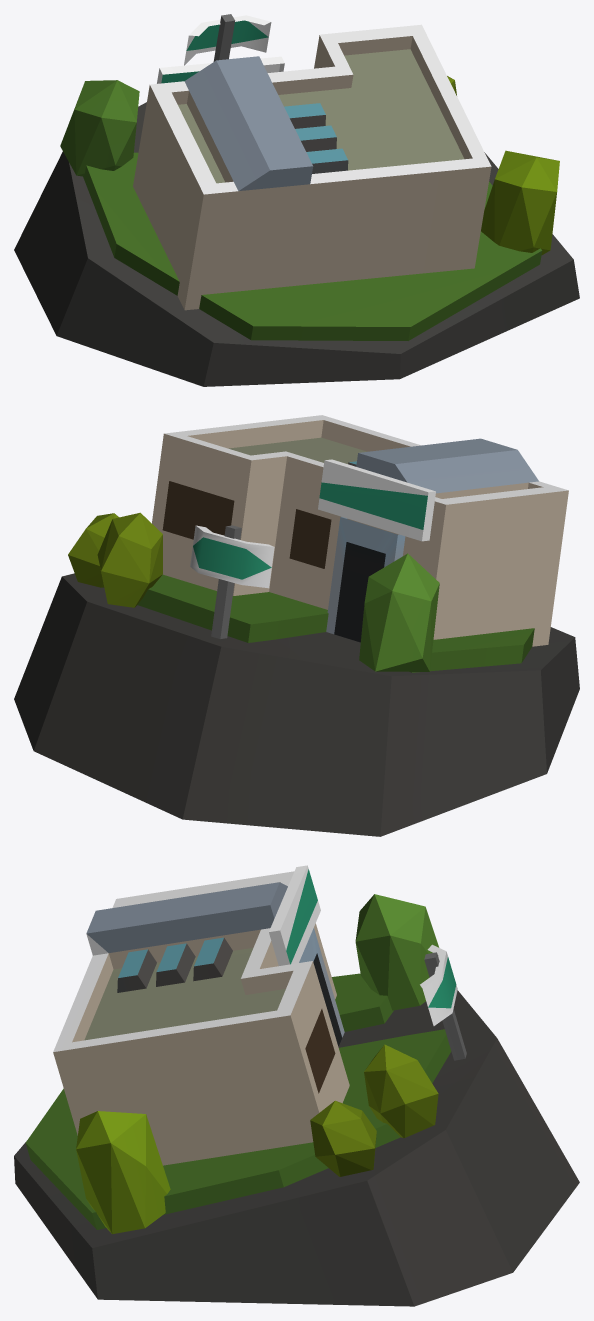
Rendered from city_lv01_A.fbx.
The picture shows the model from 3 angles, top to bottom: view 1: azimuth 30°, elevation 25°; view 2: azimuth 150°, elevation 25°; view 3: azimuth 270°, elevation 25°; orthographic projection. The views are drawn at different scales.
Visible parts, largest first — view 1: city_lv01_A; view 2: city_lv01_A; view 3: city_lv01_A.
Part boxes in pixels (<box>): city_lv01_A: <box>14,14,579,386</box>; city_lv01_A: <box>14,415,579,836</box>; city_lv01_A: <box>14,865,579,1306</box>.
Size of the model in its own units: 3253 by 1757 by 3287.
